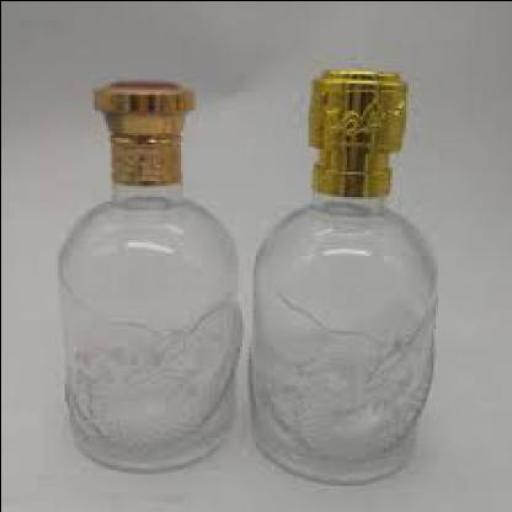glass: (250, 184, 432, 481), (56, 180, 238, 466)
metal: (307, 66, 406, 194), (88, 82, 190, 180)
